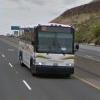Bus: (16, 23, 77, 76)
